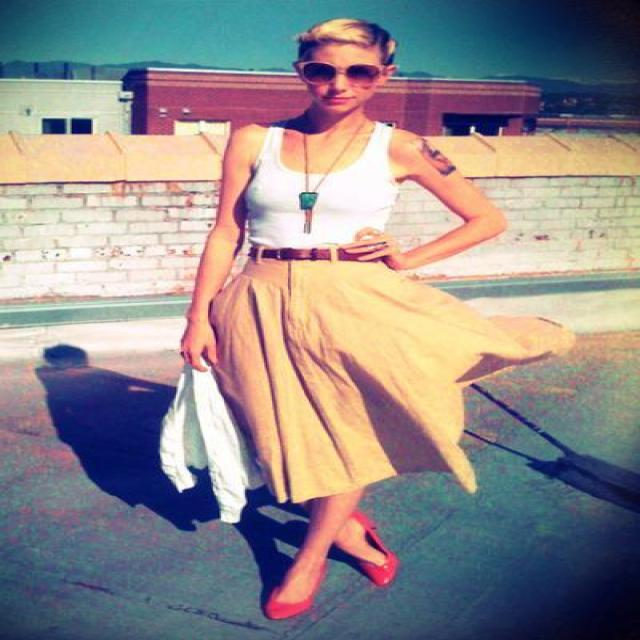bag: (160, 371, 248, 498)
shirt: (250, 120, 394, 248)
shoe: (267, 508, 398, 618)
skirt: (181, 228, 574, 498)
sunglass: (293, 38, 363, 79)
